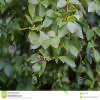Blueberry leaf: (28, 31, 51, 51), (71, 17, 86, 41), (62, 55, 77, 71), (58, 21, 68, 42), (68, 19, 77, 38), (50, 35, 61, 50)
